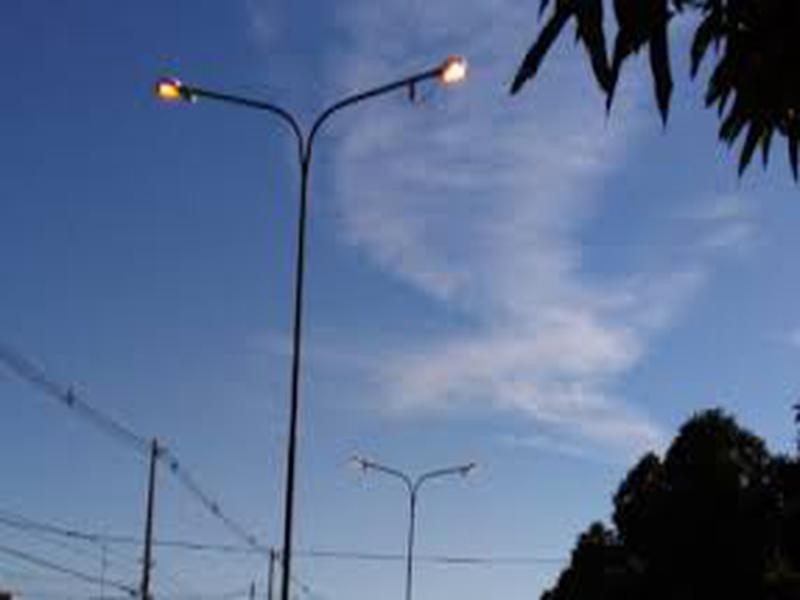IP: (318, 42, 489, 130), (143, 48, 300, 142), (341, 454, 409, 493), (415, 455, 486, 491)
